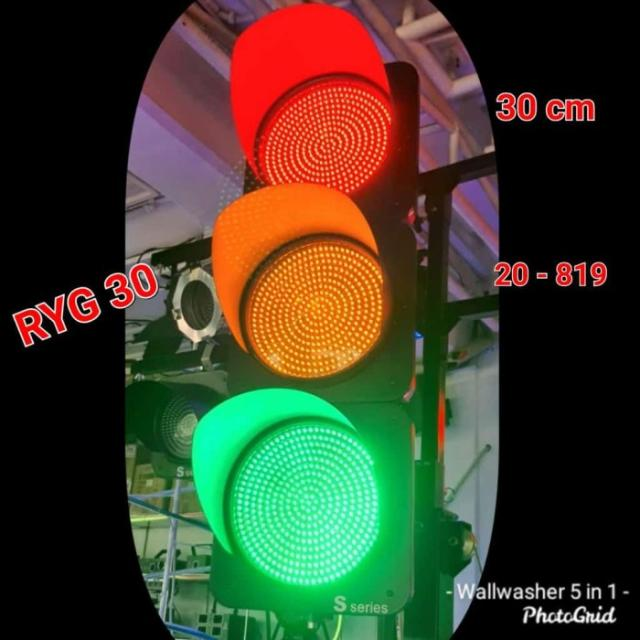Hijau: (230, 424, 386, 590)
Kuning: (245, 238, 387, 381)
Merah: (254, 73, 386, 197)
